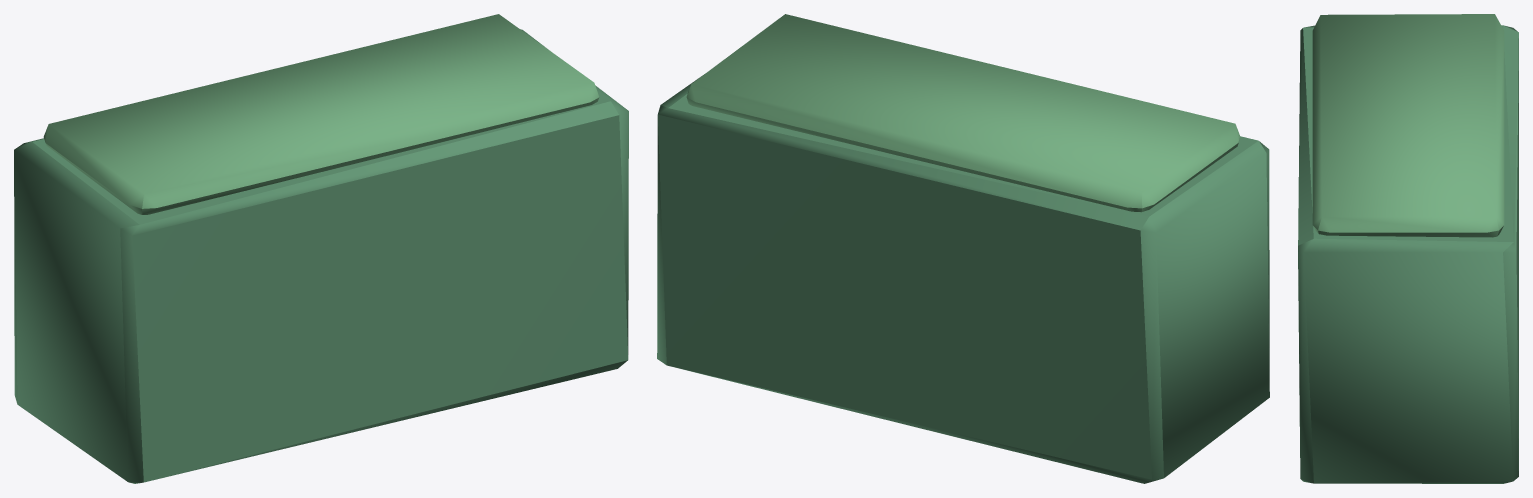
File: SM_Kurpark_Hedge_LOD1.fbx
The picture shows the model from 3 angles, left to right: view 1: azimuth 30°, elevation 25°; view 2: azimuth 150°, elevation 25°; view 3: azimuth 270°, elevation 25°; orthographic projection. The views are drawn at different scales.
Parts seen in each view (by area): view 1: SM_Kurpark_Hedge_LOD1; view 2: SM_Kurpark_Hedge_LOD1; view 3: SM_Kurpark_Hedge_LOD1.
Boxes of the visible parts, x1,y1,x2,y2 form: SM_Kurpark_Hedge_LOD1: [14, 14, 628, 483]; SM_Kurpark_Hedge_LOD1: [657, 14, 1269, 483]; SM_Kurpark_Hedge_LOD1: [1298, 14, 1518, 483].
Bounding box in the file's own units: 2.38 × 1.28 × 0.9792.
